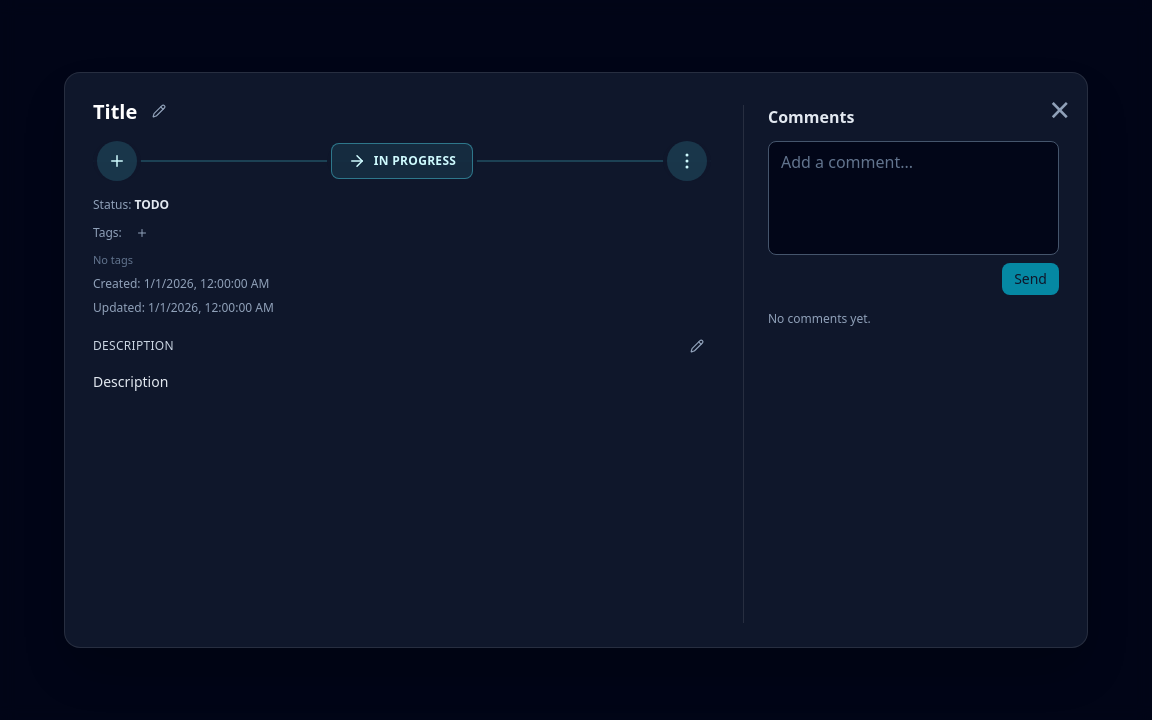
Scenario: TodoModal › shows a readable error when moving card to next status fails
Click the button with test id "todo-next-status-btn".
click(402, 161)  # box [331,143,473,179]
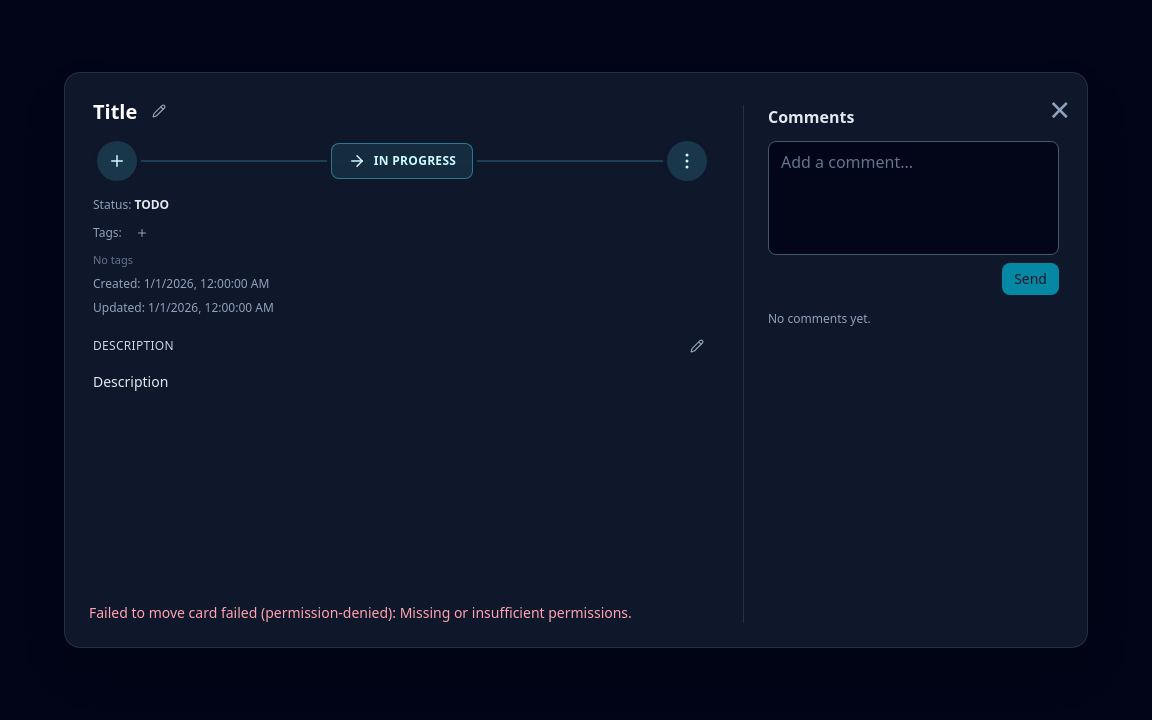
Expected: the text "Missing or insufficient permissions." is shown, [89,603,632,622]
